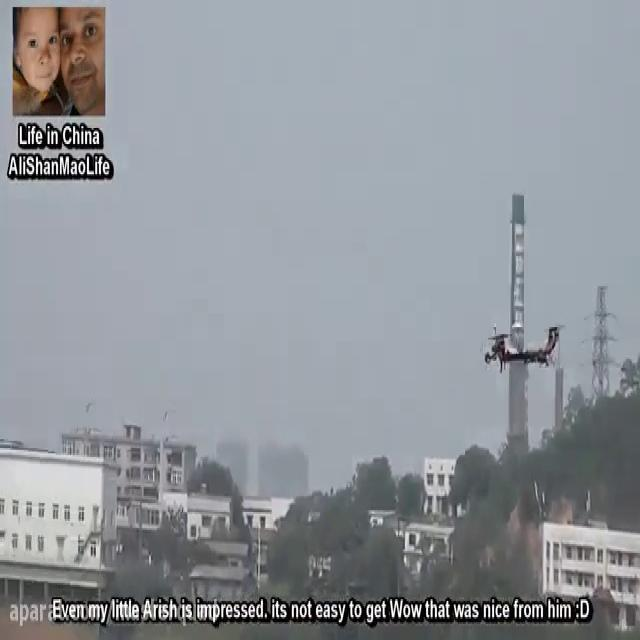drone: (481, 315, 568, 375)
